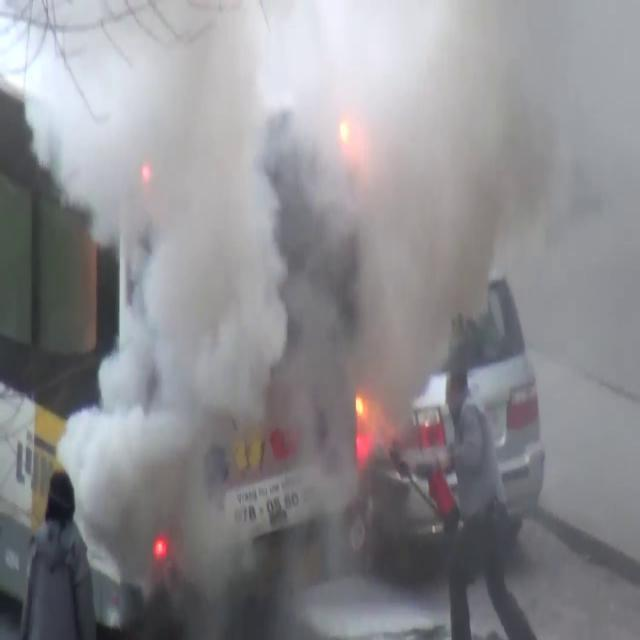Smoke: (47, 0, 630, 587)
